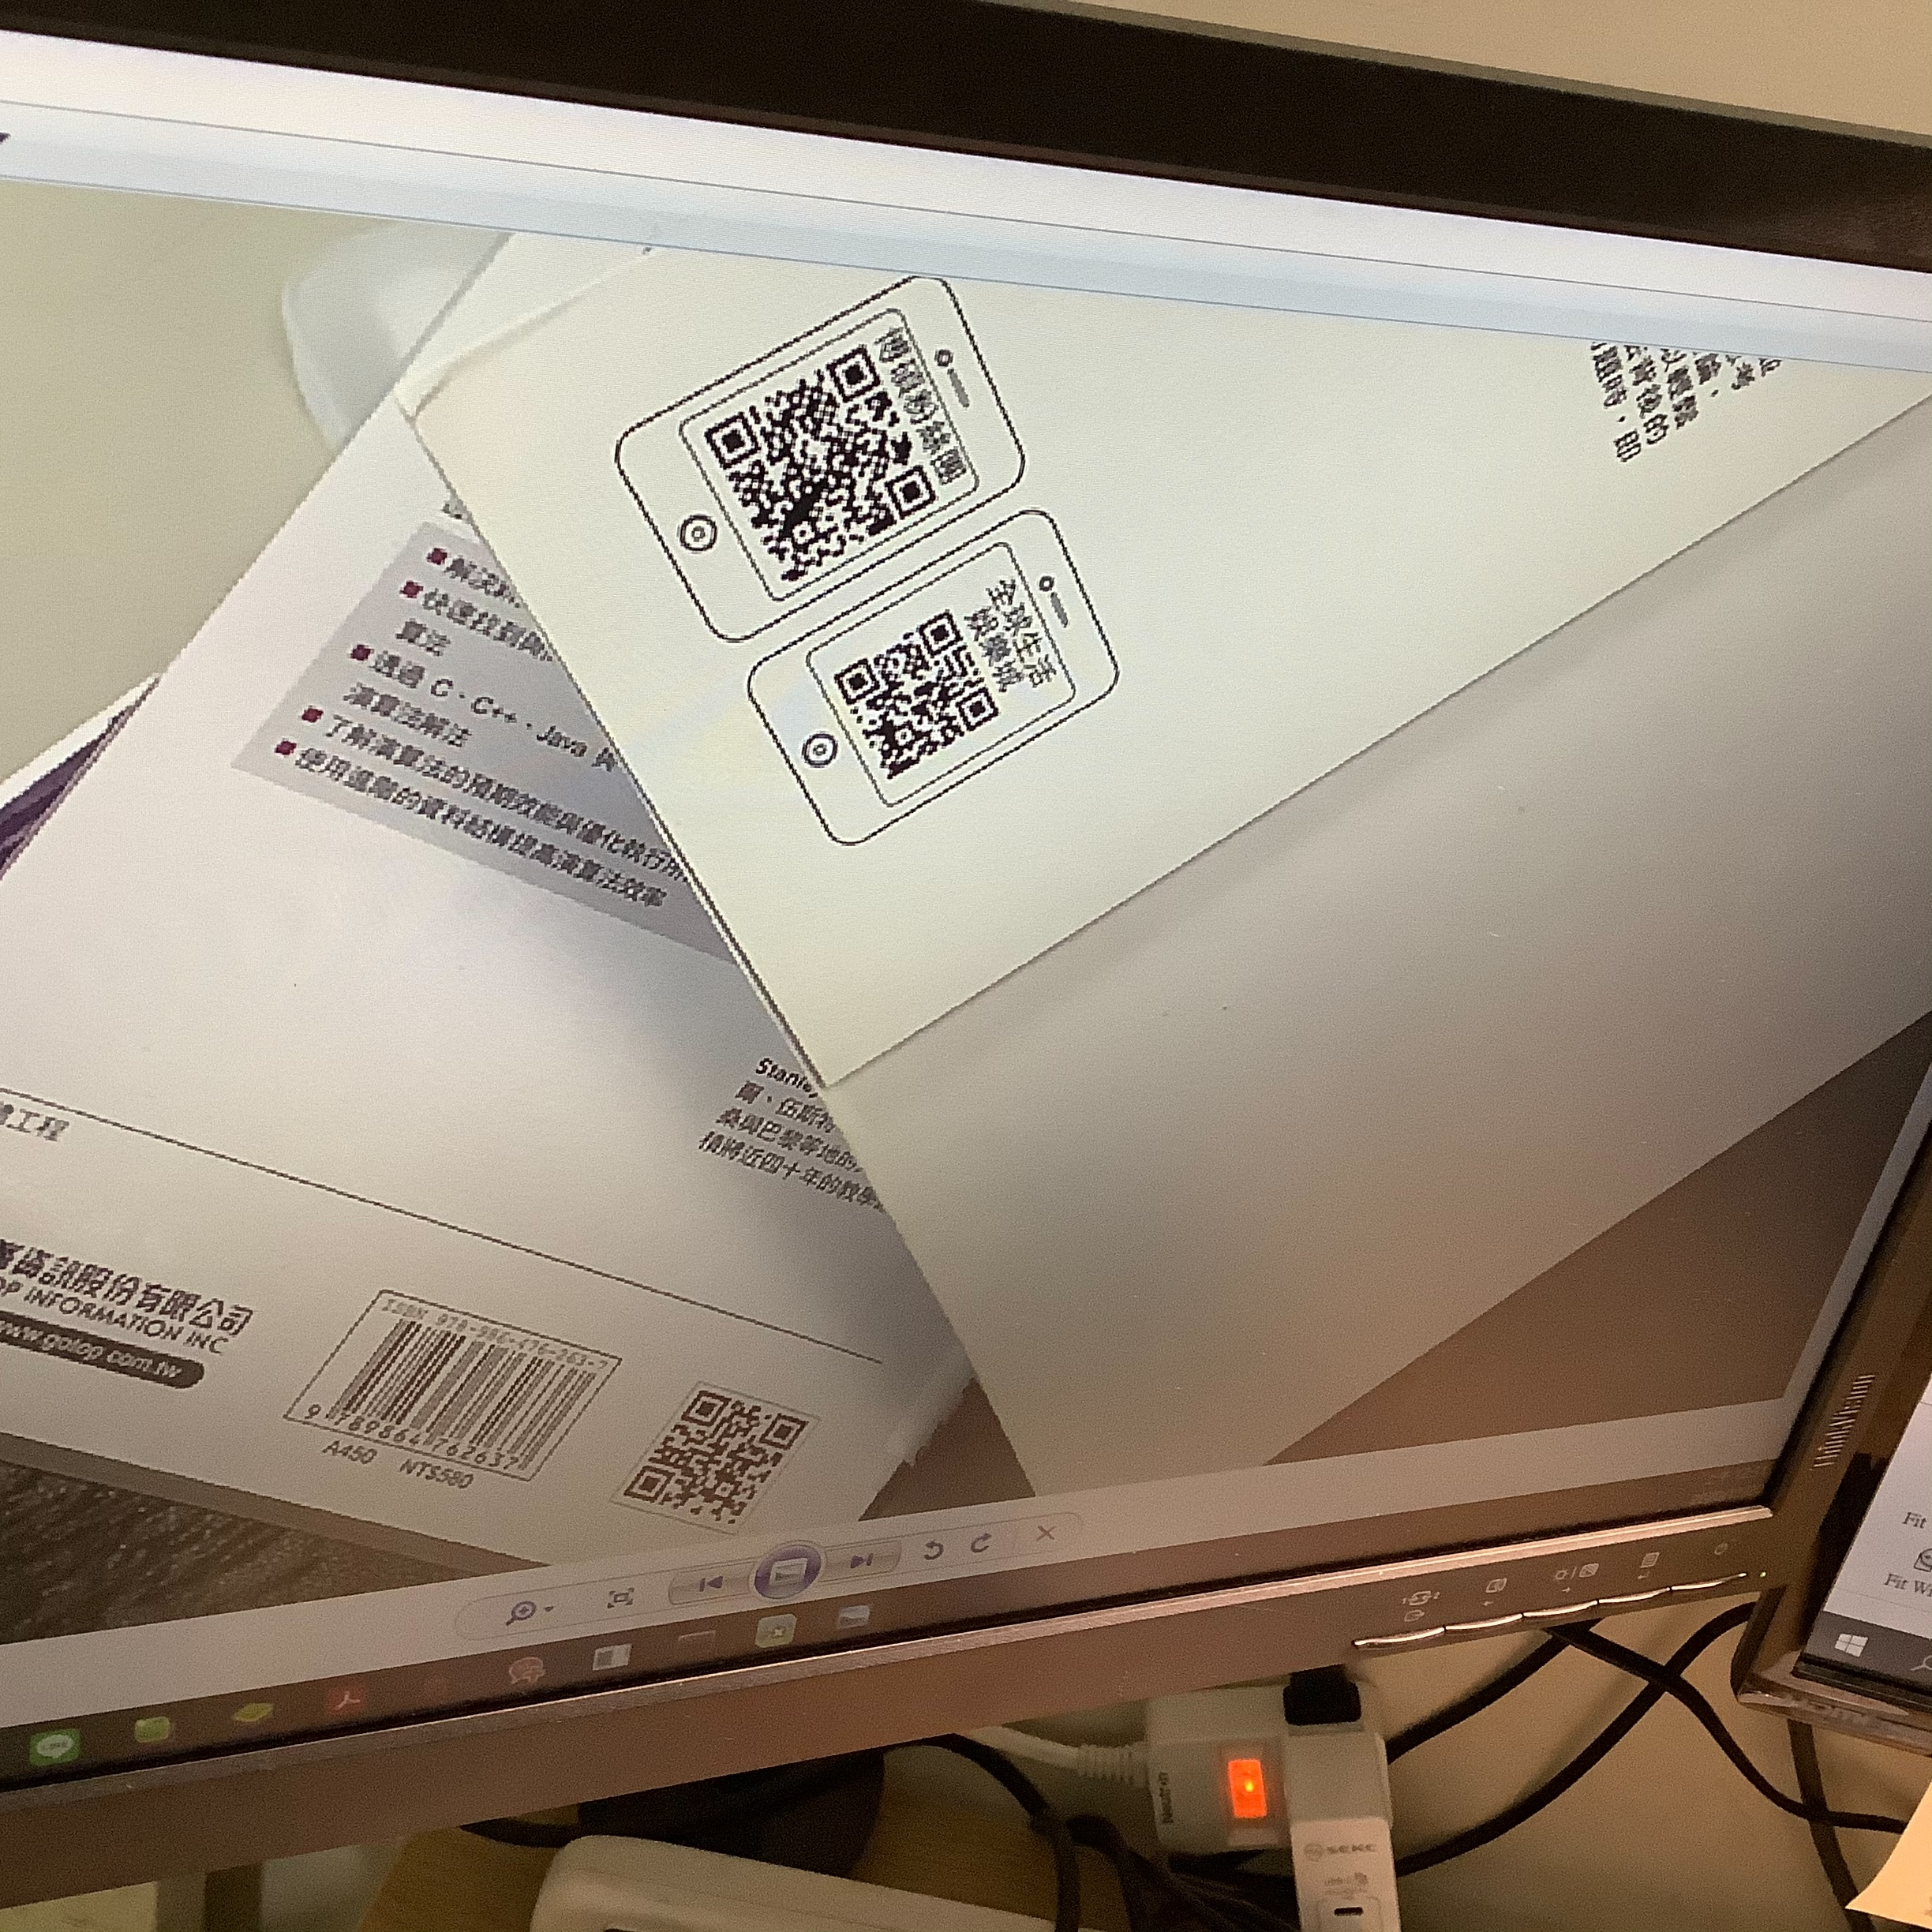QRCode: (704, 347, 936, 584), (835, 610, 994, 777)
